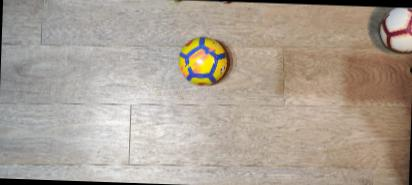Football mini: (176, 32, 232, 88)
